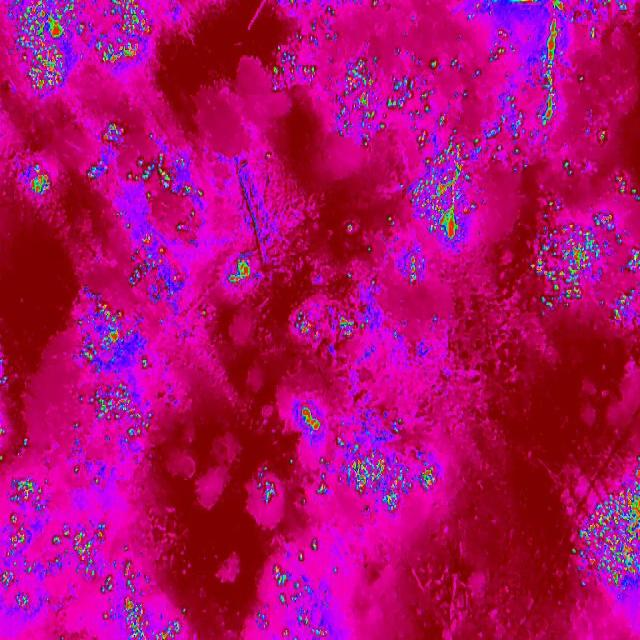fire: (265, 0, 635, 150), (0, 467, 179, 640), (85, 119, 201, 301), (525, 158, 640, 330), (293, 406, 436, 513), (1, 0, 158, 95), (376, 149, 478, 287), (75, 285, 160, 447), (567, 444, 640, 610), (254, 534, 340, 640), (287, 305, 367, 347), (245, 462, 282, 506), (16, 162, 56, 202), (226, 256, 257, 292)
